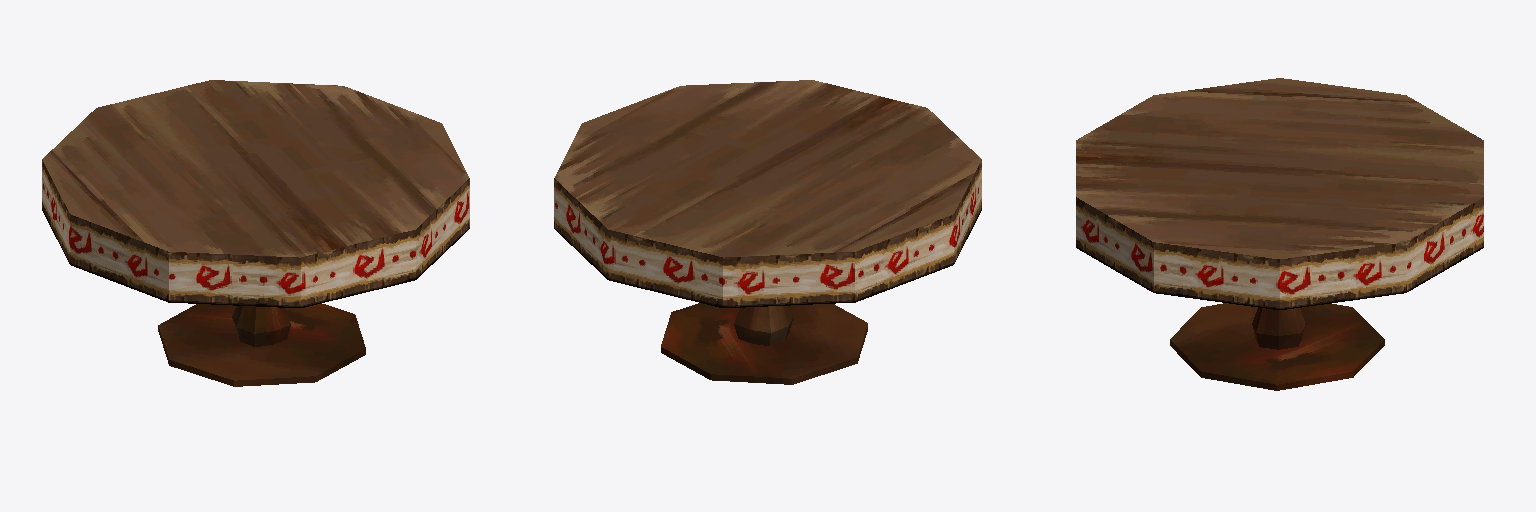
The picture shows the model from 3 angles: view 1: azimuth 30°, elevation 25°; view 2: azimuth 150°, elevation 25°; view 3: azimuth 270°, elevation 25°; orthographic projection.
Visible parts, largest first — view 1: table_cafe; view 2: table_cafe; view 3: table_cafe.
Boxes of the visible parts, box(x1,y1,x2,y2) form: table_cafe: box(42, 80, 469, 386); table_cafe: box(554, 80, 981, 384); table_cafe: box(1076, 78, 1483, 390).
Size of the model in its own units: 200 by 89.6 by 190.
Materials: 1 (1 with a texture image).